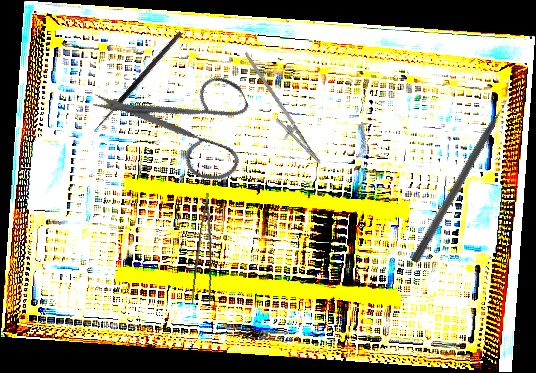Hook Surgical: (92, 30, 188, 138)
Iris Scissors: (88, 36, 273, 216)
Needle Holder: (224, 52, 334, 171)
Pusher: (409, 90, 518, 265)
Tissue Forceps: (188, 193, 227, 309)
